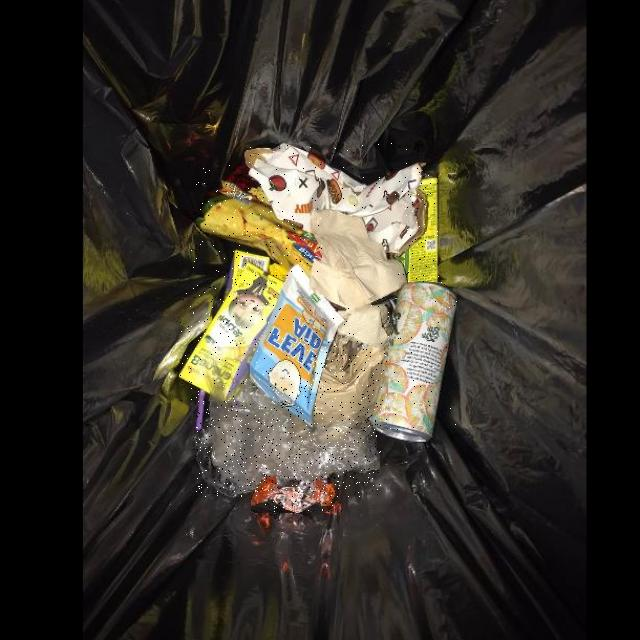metal: (372, 281, 457, 441)
paper: (245, 142, 428, 253), (179, 249, 284, 400), (311, 208, 407, 310), (312, 340, 387, 435), (398, 175, 439, 281), (338, 304, 391, 348)
plastic: (196, 338, 381, 496), (250, 263, 345, 426)
wrapper: (196, 162, 322, 276), (251, 476, 336, 512)
